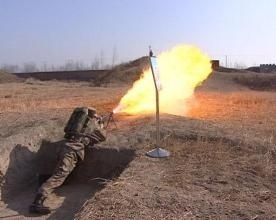fire: (111, 40, 213, 119)
